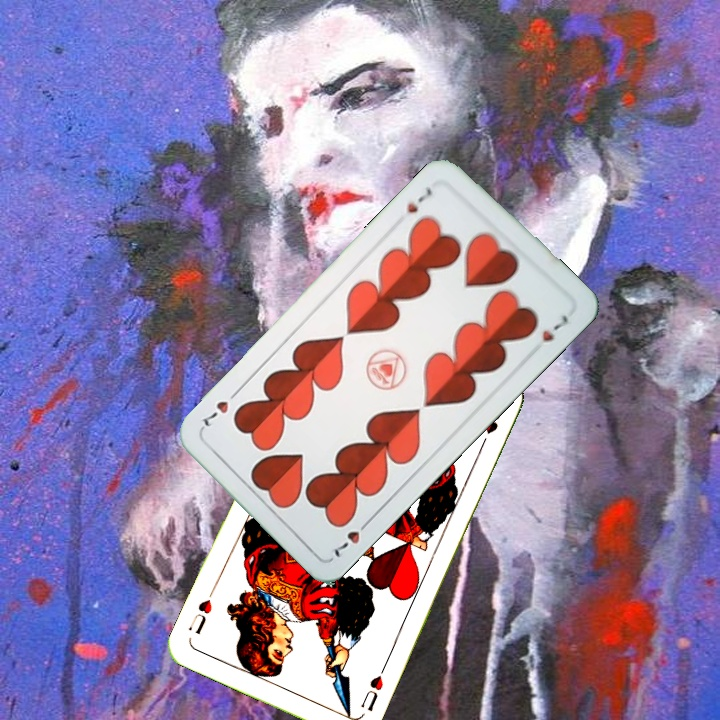H7: (329, 514, 374, 560), (402, 182, 435, 216)
HU: (357, 663, 388, 715)
